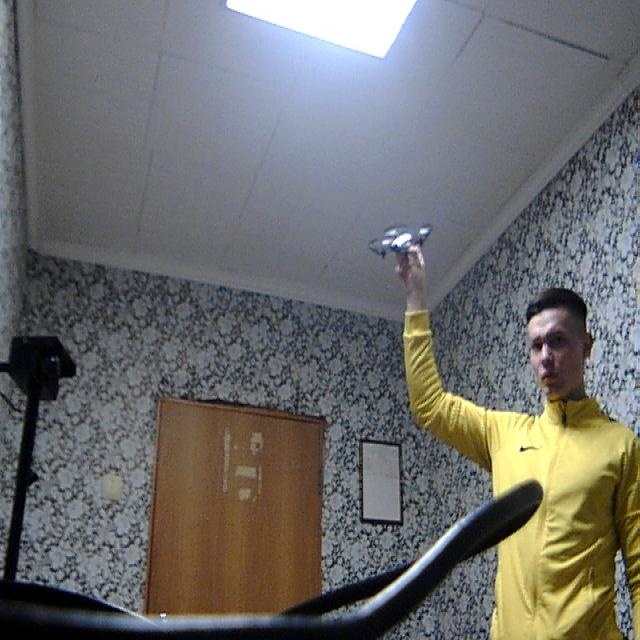drone: (364, 212, 434, 268)
